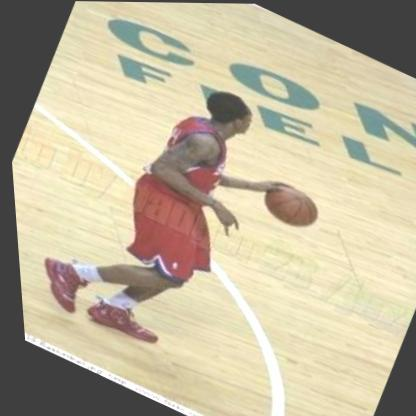basketball: (246, 169, 330, 242)
